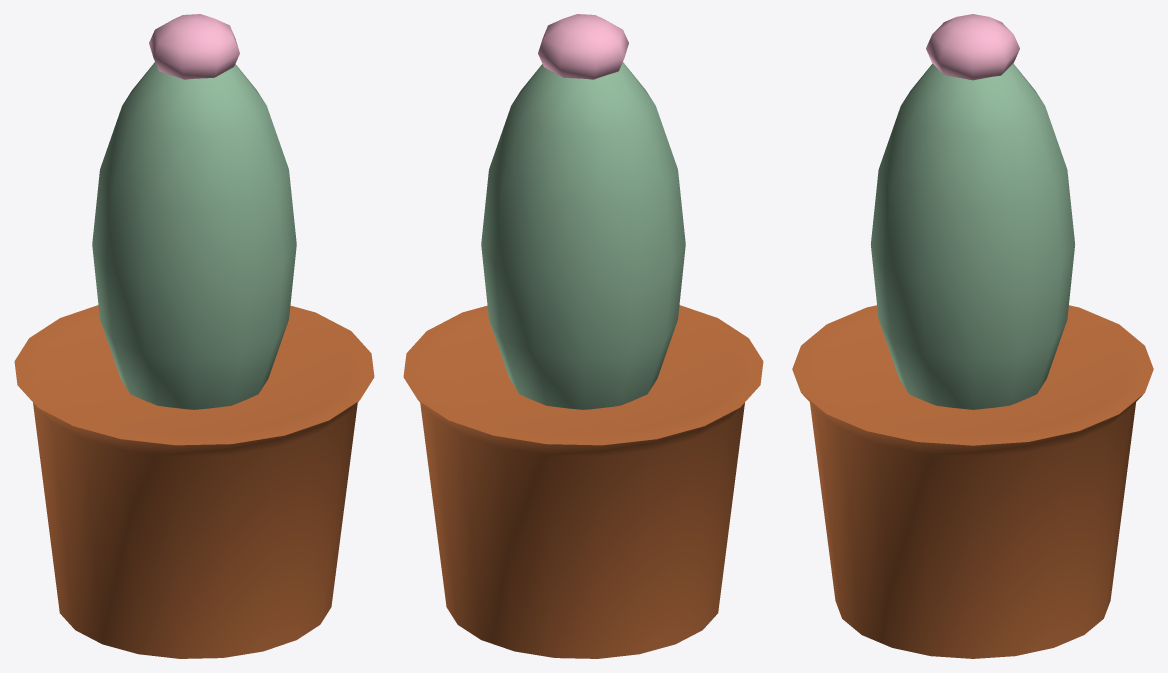
The model's file is cactus_trinket_shelf.fbx.
The picture shows the model from 3 angles, left to right: view 1: azimuth 30°, elevation 25°; view 2: azimuth 150°, elevation 25°; view 3: azimuth 270°, elevation 25°; orthographic projection.
Visible parts, largest first — view 1: cactus_trinket_shelf; view 2: cactus_trinket_shelf; view 3: cactus_trinket_shelf.
Boxes of the visible parts, <box> form: cactus_trinket_shelf: <box>14,14,374,658</box>; cactus_trinket_shelf: <box>403,14,763,658</box>; cactus_trinket_shelf: <box>792,14,1153,658</box>.
Size of the model in its own units: 0.092 by 0.163 by 0.092.
